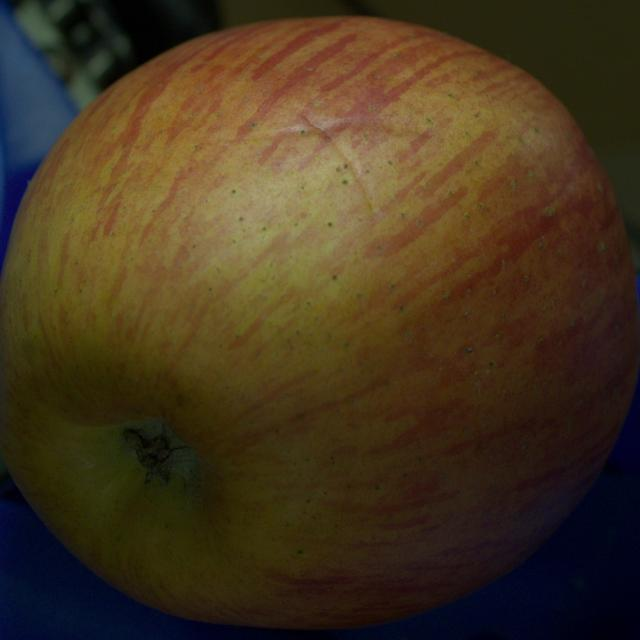apple: (0, 18, 639, 628)
bruise: (218, 105, 441, 217)
